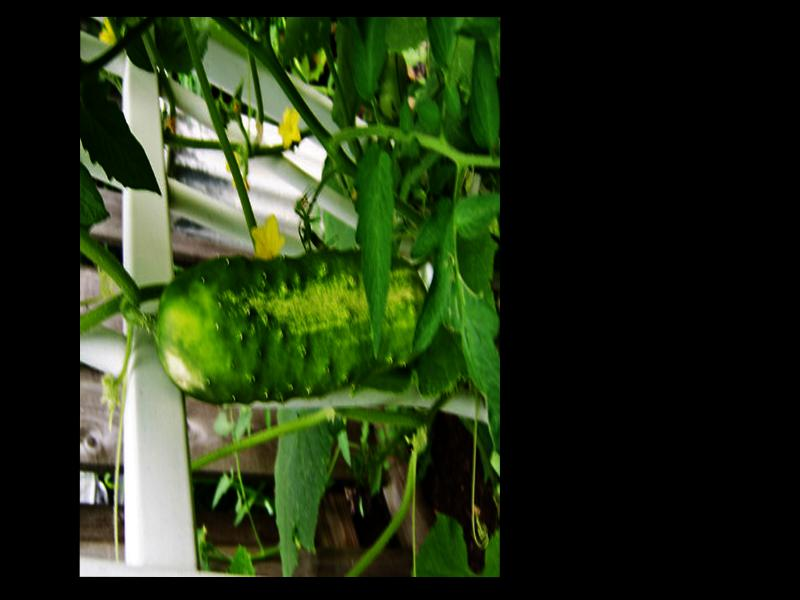Cucumber: (154, 256, 423, 402)
